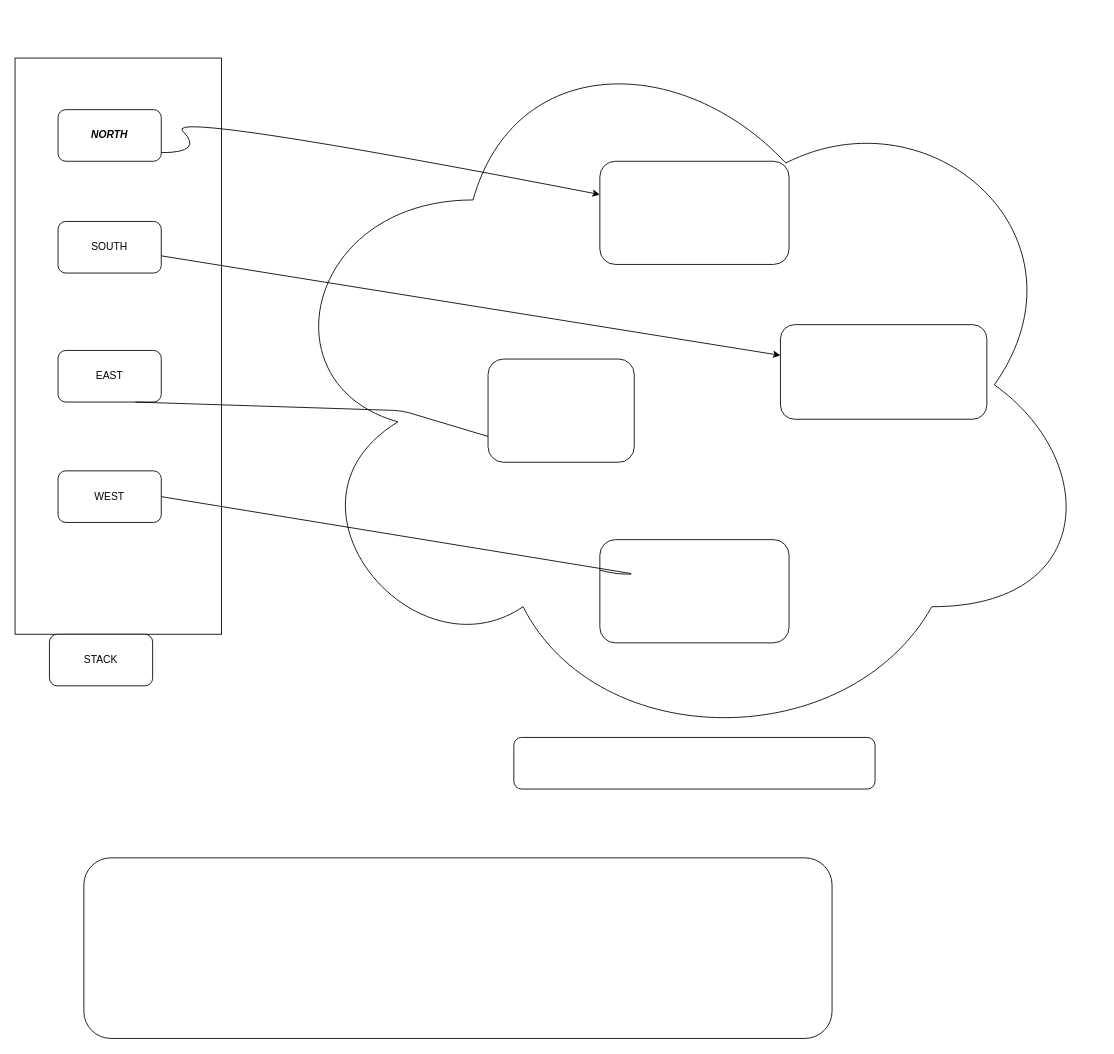
Image size: 1114x1054. Some labels were removed from this diagram. The shapes that lost their labels are listed below. From the top down, each one's centre as x and y in pixels, then its label:
At (x=694, y=763): "heap".
At (x=457, y=947): "how enums internally look".
